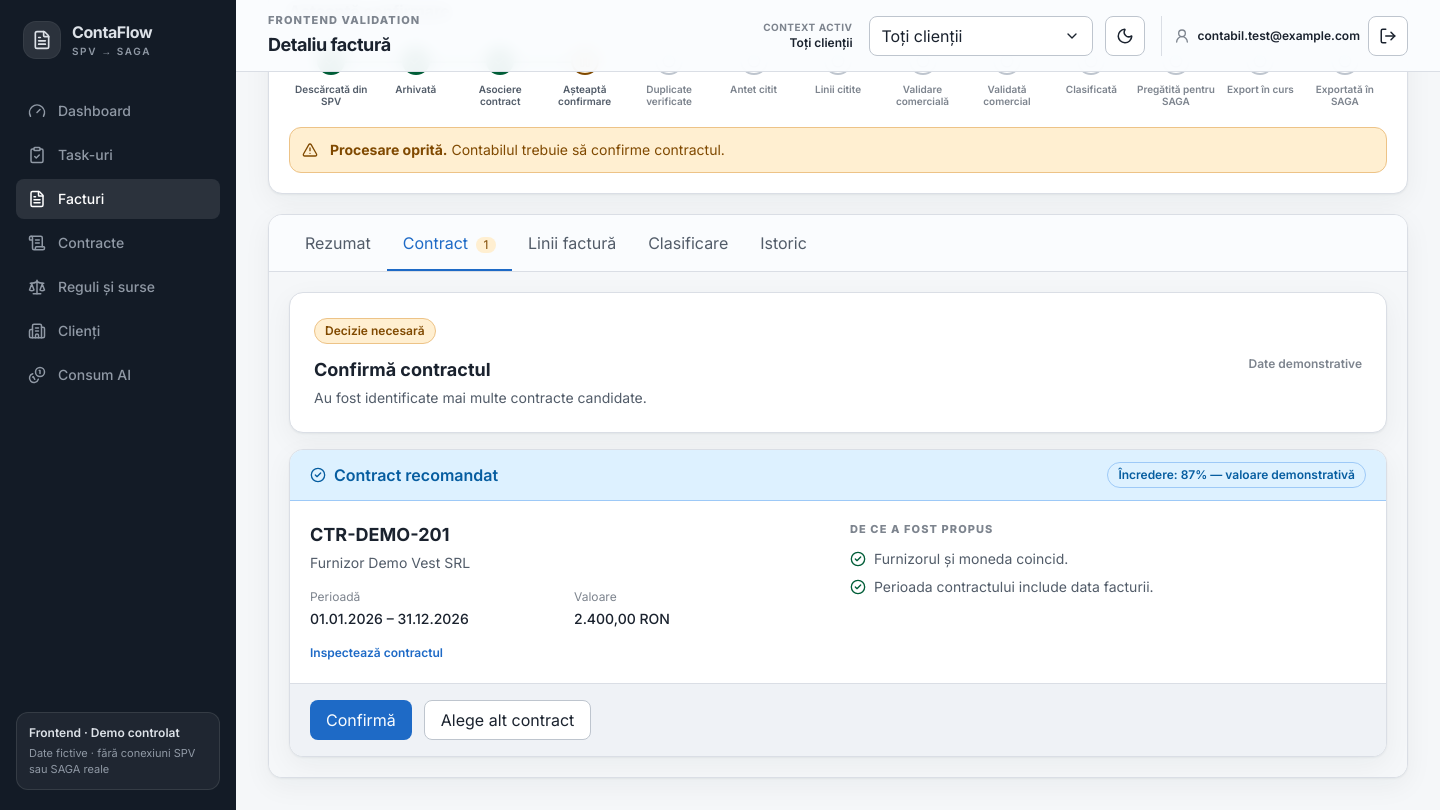
Test case: Contracts workspace › inspecting a multiple-match candidate preserves the unresolved task
The width and height of the screenshot is (1440, 810).
(page scrolled)
Click the link "Inspectează contractul".
click(376, 652)  # box [310, 644, 443, 660]
(page scrolled)
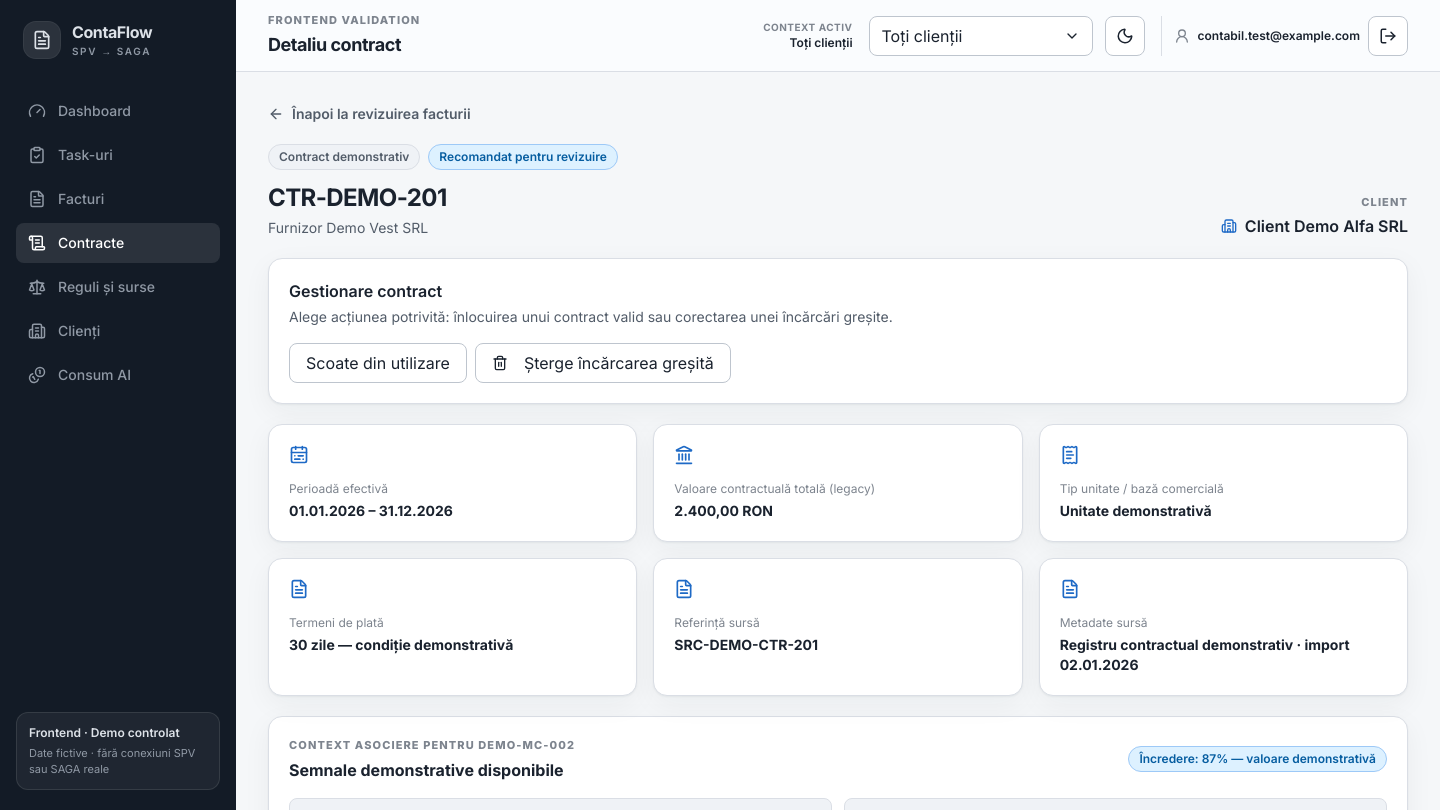
Expected: the heading "Semnale demonstrative disponibile" is shown, [289, 758, 575, 782]
Click the link "Înapoi la revizuirea facturii".
click(369, 114)  # box [268, 104, 471, 124]
(page scrolled)
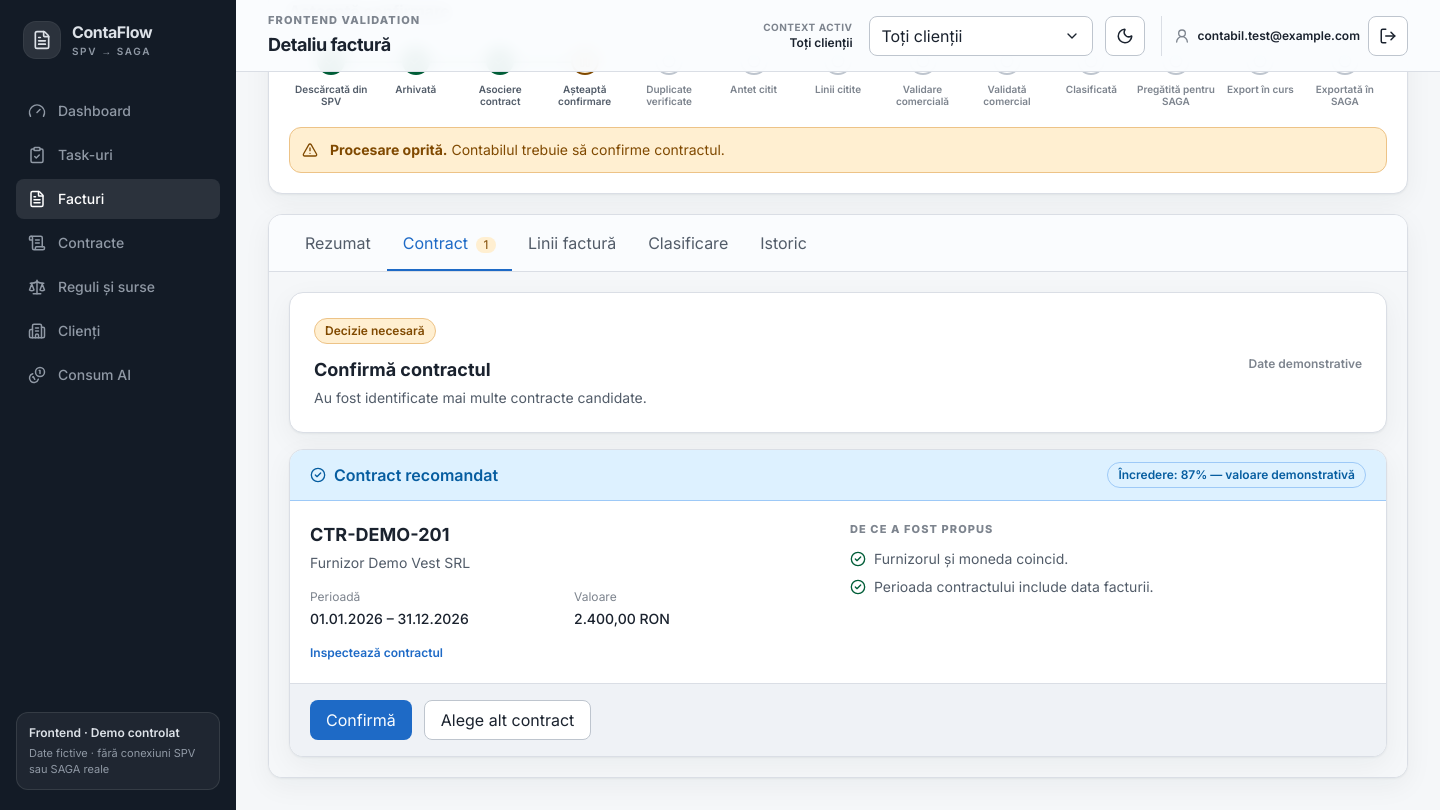
Expected: the text "Contract recomandat" is shown, [310, 462, 498, 486]
